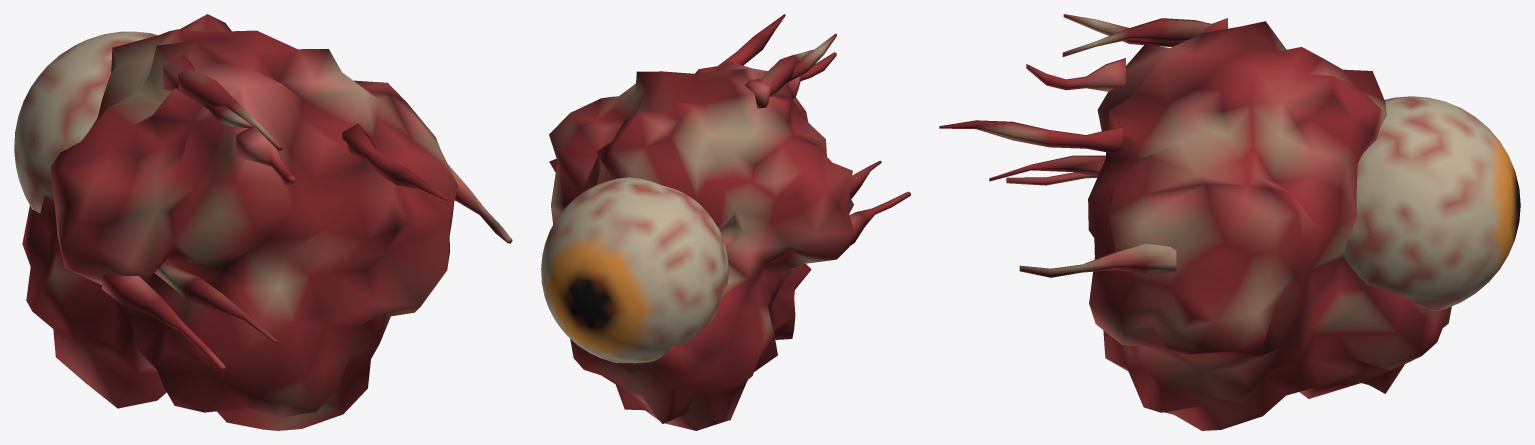
The model's file is eye_gob.glb.
3 renders of one model, left to right at view 1: azimuth 30°, elevation 25°; view 2: azimuth 150°, elevation 25°; view 3: azimuth 270°, elevation 25°, orthographic. The views are drawn at different scales.
Parts seen in each view (by area): view 1: Meat, Eye; view 2: Meat, Eye; view 3: Meat, Eye.
Part boxes in pixels (x1,y1,x2,y2): Meat: (22, 14, 512, 430); Eye: (14, 31, 157, 212); Meat: (549, 14, 910, 430); Eye: (541, 177, 728, 363); Meat: (939, 14, 1451, 430); Eye: (1344, 96, 1520, 310).
Bounding box in the file's own units: 2.16 × 2.09 × 2.98.
